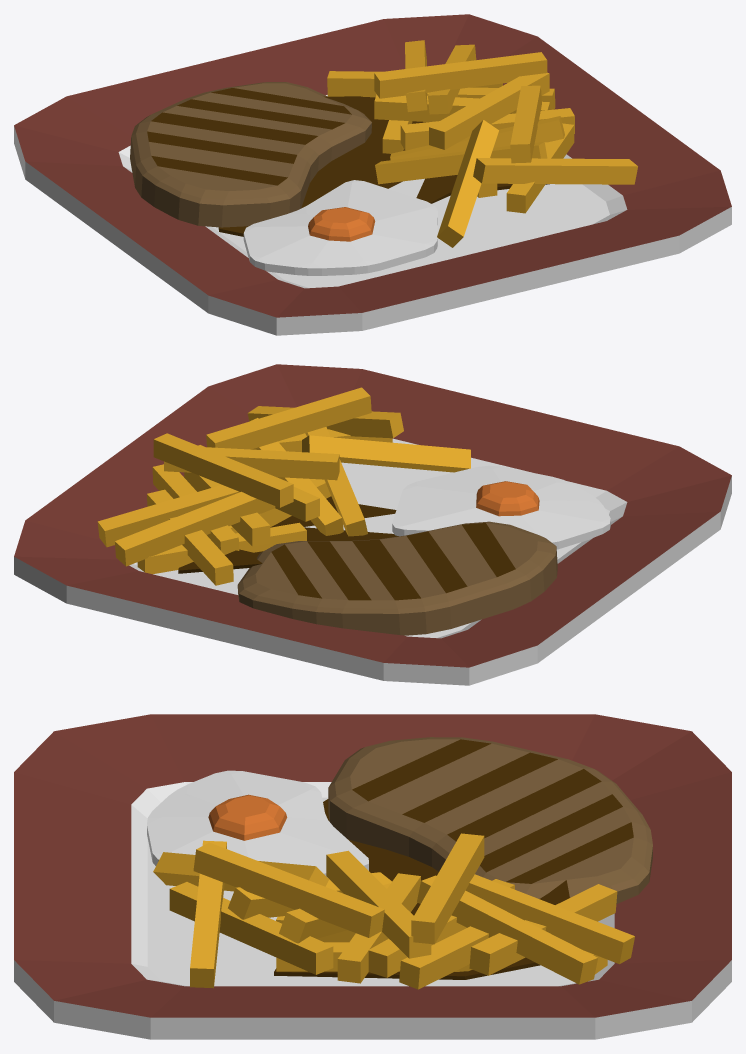
File: R_Dish_1.fbx
The picture shows the model from 3 angles, top to bottom: view 1: azimuth 30°, elevation 25°; view 2: azimuth 150°, elevation 25°; view 3: azimuth 270°, elevation 25°; orthographic projection. The views are drawn at different scales.
Visible parts, largest first — view 1: R_Dish_1; view 2: R_Dish_1; view 3: R_Dish_1.
Boxes of the visible parts, bbox=[...] form: R_Dish_1: bbox=[14, 14, 731, 335]; R_Dish_1: bbox=[14, 364, 731, 685]; R_Dish_1: bbox=[14, 714, 731, 1039].
Size of the model in its own units: 200 by 200 by 37.07.
